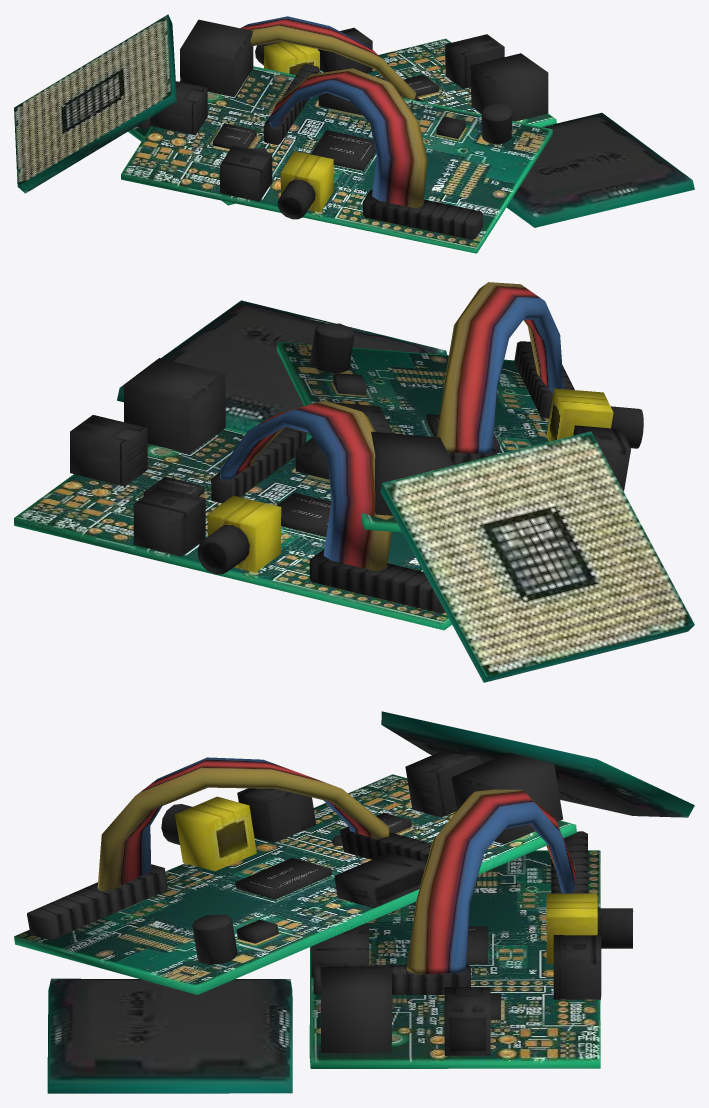
The model's file is techparts.glb.
3 views of the same model, one above another, from view 1: azimuth 30°, elevation 25°; view 2: azimuth 150°, elevation 25°; view 3: azimuth 270°, elevation 25° (orthographic). The views are drawn at different scales.
Parts seen in each view (by area): view 1: techparts; view 2: techparts; view 3: techparts.
Boxes of the visible parts, x1,y1,x2,y2 form: techparts: (14, 14, 694, 253); techparts: (14, 282, 694, 682); techparts: (14, 711, 694, 1093).
Size of the model in its own units: 0.4714 by 0.1107 by 0.413.
1 material, 1 textured.
